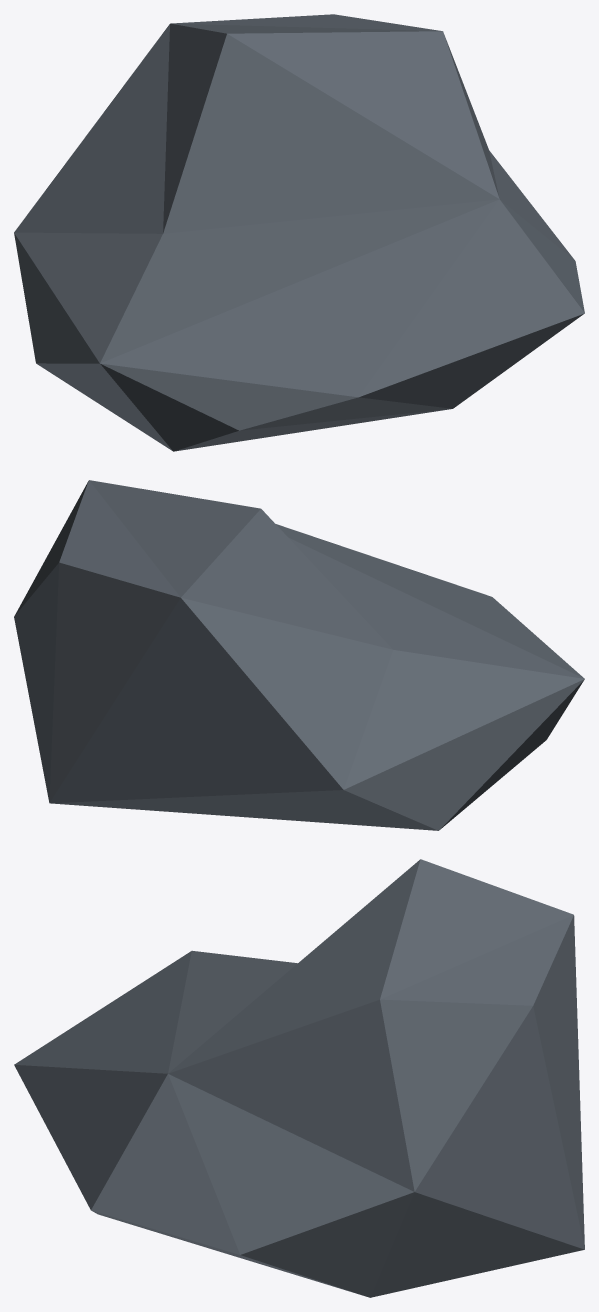
The model's file is Boulder-C13.fbx.
3 renders of one model, top to bottom at view 1: azimuth 30°, elevation 25°; view 2: azimuth 150°, elevation 25°; view 3: azimuth 270°, elevation 25°, orthographic. The views are drawn at different scales.
Parts seen in each view (by area): view 1: Boulder-C13; view 2: Boulder-C13; view 3: Boulder-C13.
Part boxes in pixels (x1=…): Boulder-C13: x1=14, y1=14, x2=584, y2=451; Boulder-C13: x1=14, y1=480, x2=584, y2=830; Boulder-C13: x1=14, y1=859, x2=584, y2=1297.
Size of the model in its own units: 160 by 87.96 by 145.
